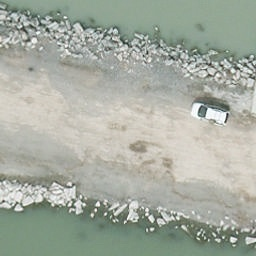car: (189, 101, 229, 124)
